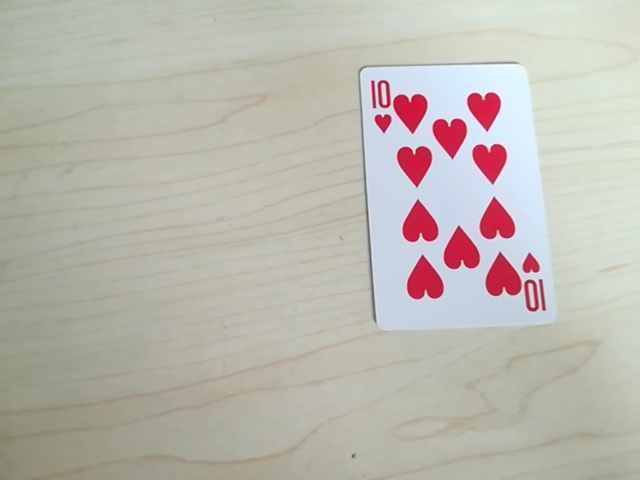hx 10: (365, 77, 411, 137), (515, 264, 546, 319)
